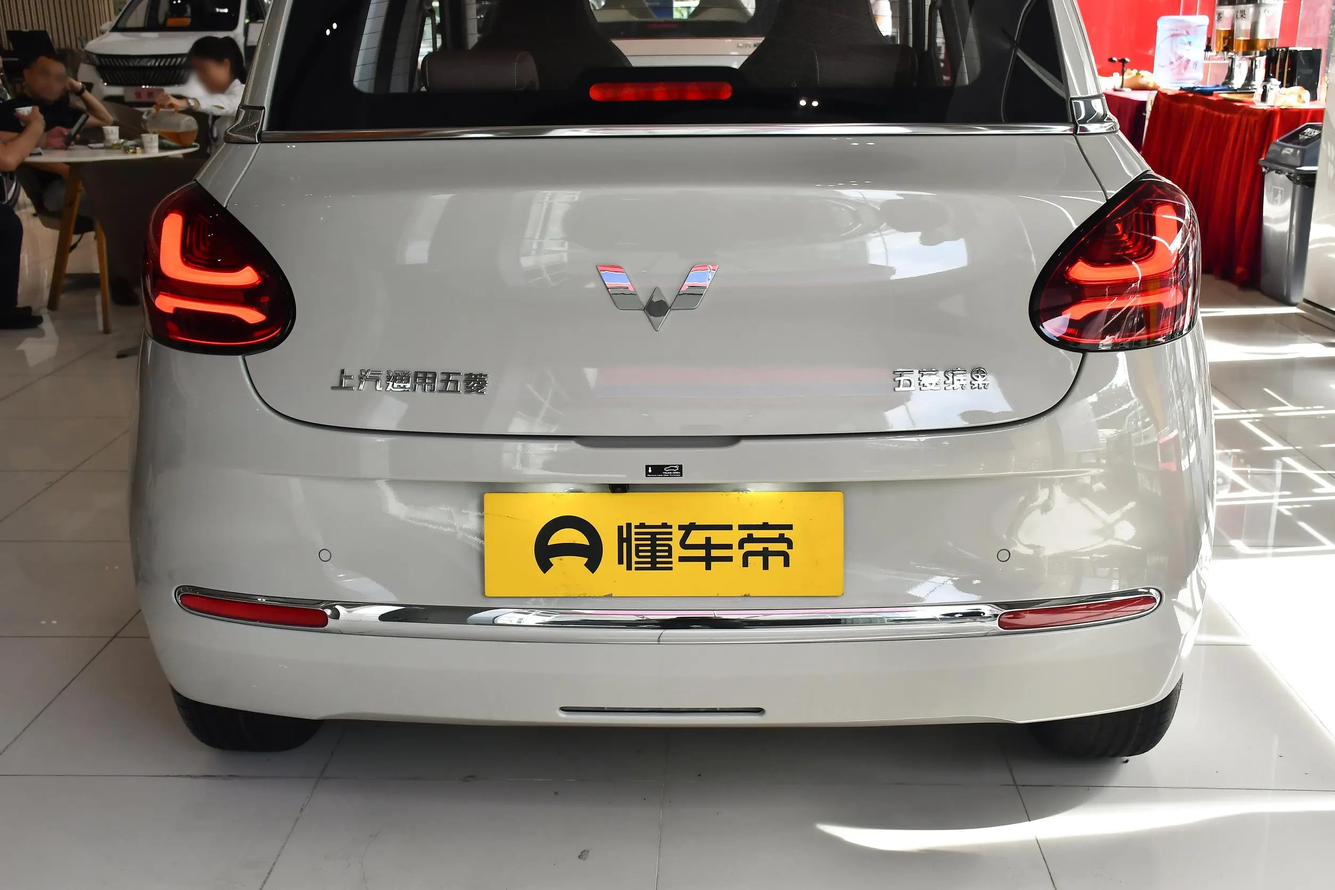SGMW: (596, 264, 719, 330)
